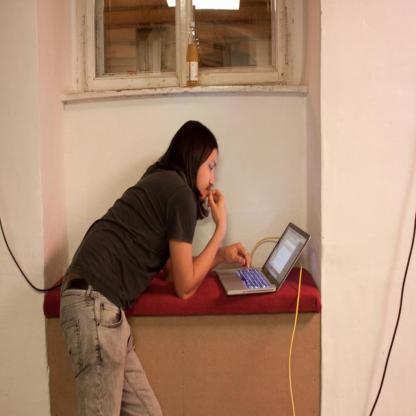board: (217, 222, 309, 295), (186, 22, 200, 88)
